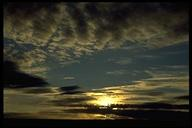cloud: (6, 1, 186, 71)
sky: (49, 36, 182, 93)
sunset: (89, 88, 127, 110)
